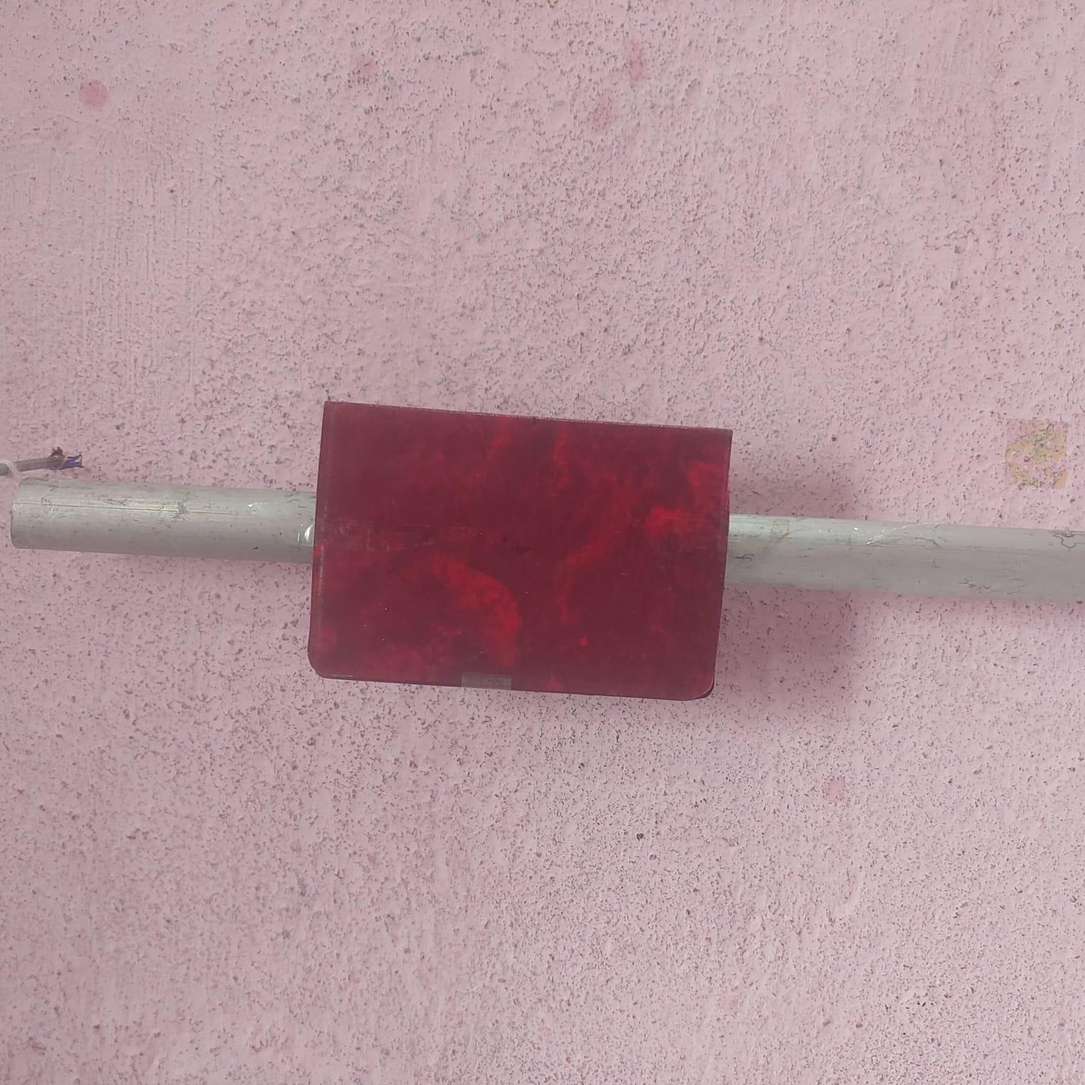wallet: (313, 397, 736, 689)
